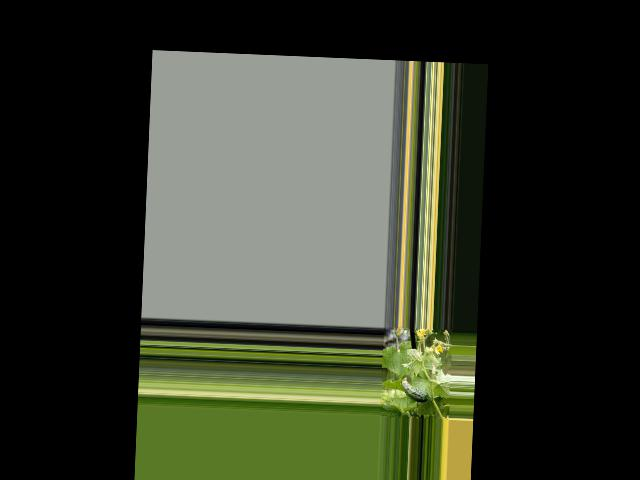cucumber: (400, 376, 430, 402)
